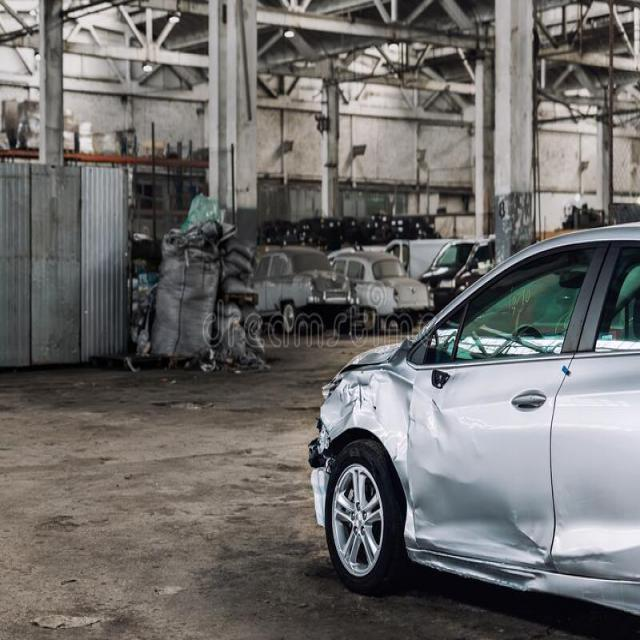RunningBoard-Dent: (411, 541, 545, 593), (536, 565, 640, 620)
doorouter-dent: (415, 368, 561, 551)
fender-dent: (313, 374, 414, 512)
